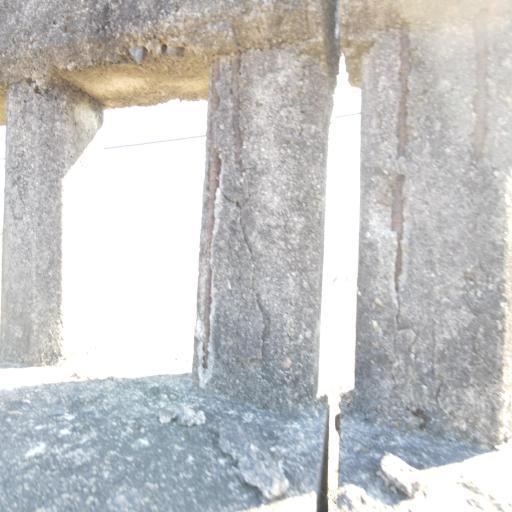exposed_rebar: (202, 60, 221, 368), (474, 9, 487, 169), (397, 25, 410, 158), (391, 172, 405, 293), (231, 52, 242, 169)
